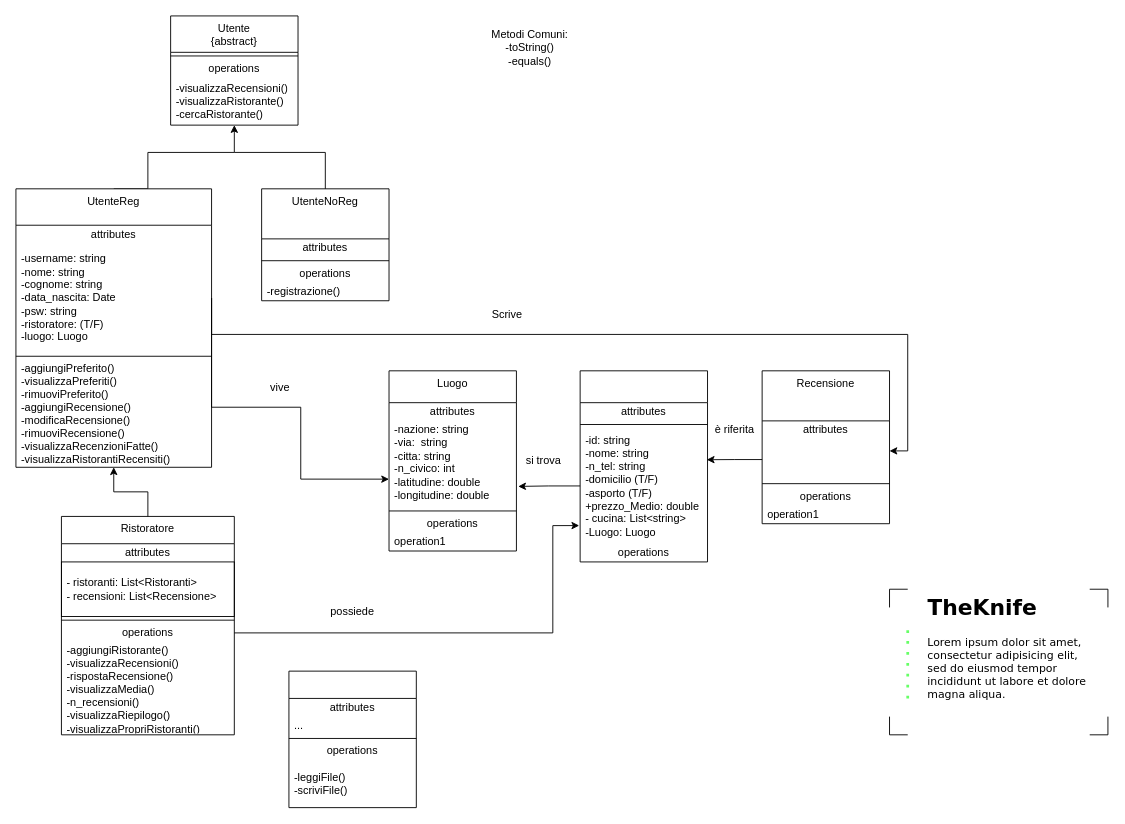
Some shapes in this 1125 by 824 pixel diagram are drawn without their labels. The shapes that lost their labels are listed below. From the top down, each one's box as (x1, y1, x2, y2) in pixels, then its label:
(579, 370, 708, 562): Ristorante
(761, 438, 890, 480): -n_stelle: int -text: string -data: Date
(288, 670, 416, 808): GestoreFile
